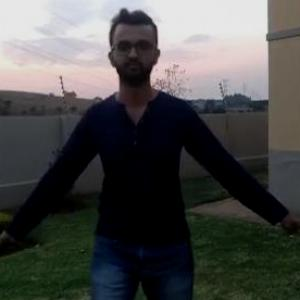land: (17, 36, 274, 299)
